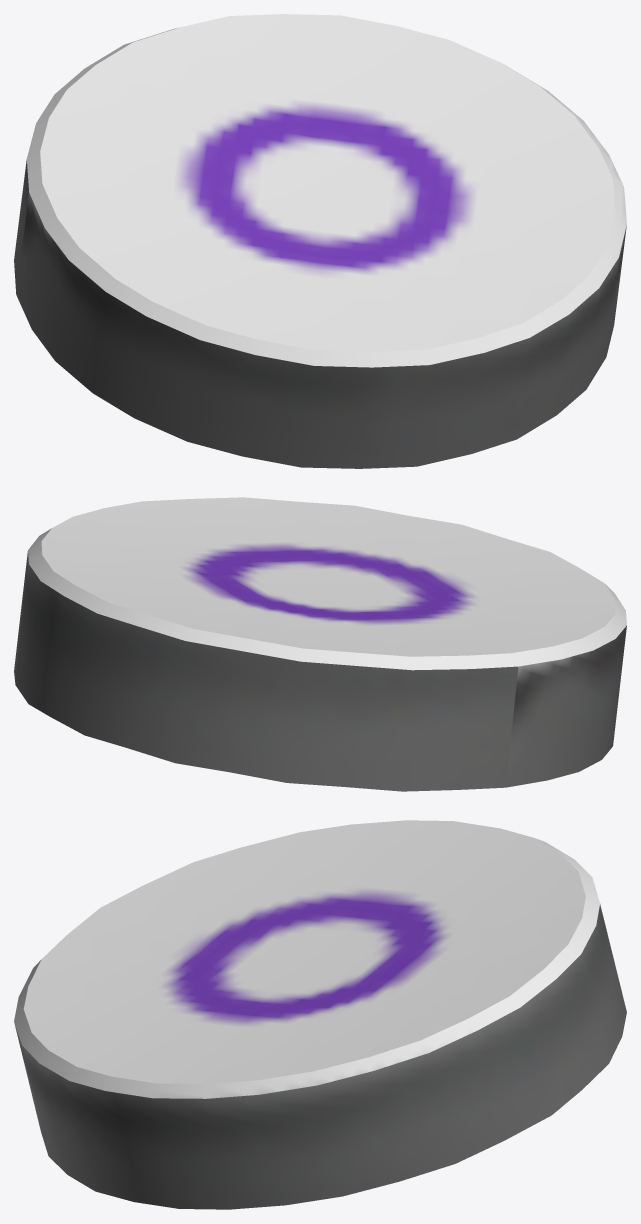
3 renders of one model, top to bottom at view 1: azimuth 30°, elevation 25°; view 2: azimuth 150°, elevation 25°; view 3: azimuth 270°, elevation 25°, orthographic.
Bounding box in the file's own units: 0.00866 × 0.00366 × 0.00884.
Materials: 1 (1 with a texture image).
